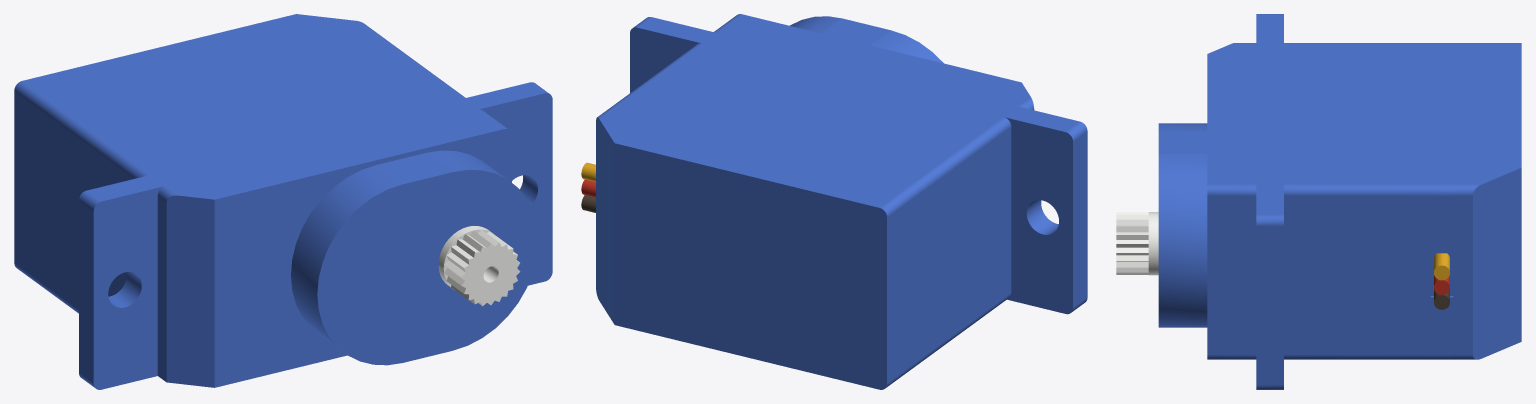
File: servo.glb
3 renders of one model, left to right at view 1: azimuth 30°, elevation 25°; view 2: azimuth 150°, elevation 25°; view 3: azimuth 270°, elevation 25°, orthographic. The views are drawn at different scales.
Parts seen in each view (by area): view 1: servo-1, servo-2, servo-0; view 2: servo-1, servo-2; view 3: servo-1, servo-2, servo-0, servo-5.
Boxes of the visible parts, box(x1,y1,x2,y2) form: servo-1: box(51, 31, 552, 389); servo-2: box(14, 14, 375, 294); servo-0: box(438, 226, 520, 306); servo-1: box(609, 14, 1087, 361); servo-2: box(596, 108, 922, 389); servo-1: box(1158, 14, 1453, 389); servo-2: box(1453, 43, 1521, 359); servo-0: box(1116, 212, 1158, 275); servo-5: box(1434, 253, 1449, 280).
Size of the model in its own units: 30.1 by 11.8 by 24.9.
